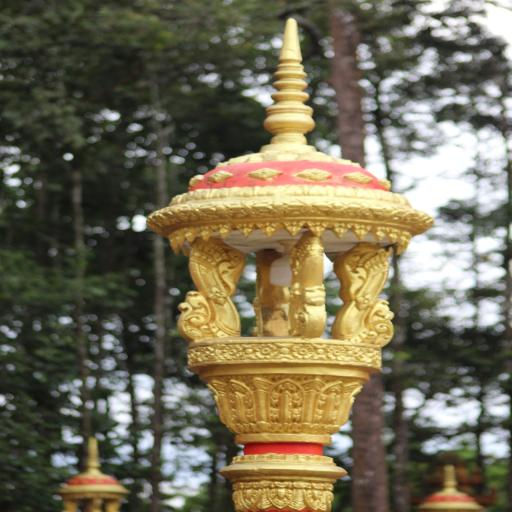hoa: (322, 344, 349, 363), (290, 340, 314, 360), (188, 342, 212, 362), (253, 342, 280, 359), (220, 344, 244, 362), (356, 347, 379, 364)
la: (173, 252, 236, 342), (342, 244, 396, 345), (297, 239, 324, 337), (264, 374, 304, 434), (212, 381, 253, 432), (314, 376, 351, 430), (262, 483, 298, 511), (295, 483, 332, 510), (229, 484, 265, 511)
